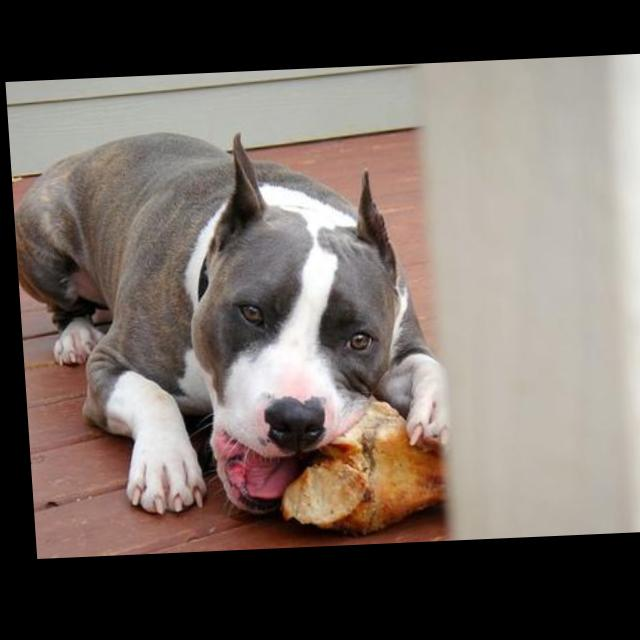amstaff: (8, 123, 449, 529)
